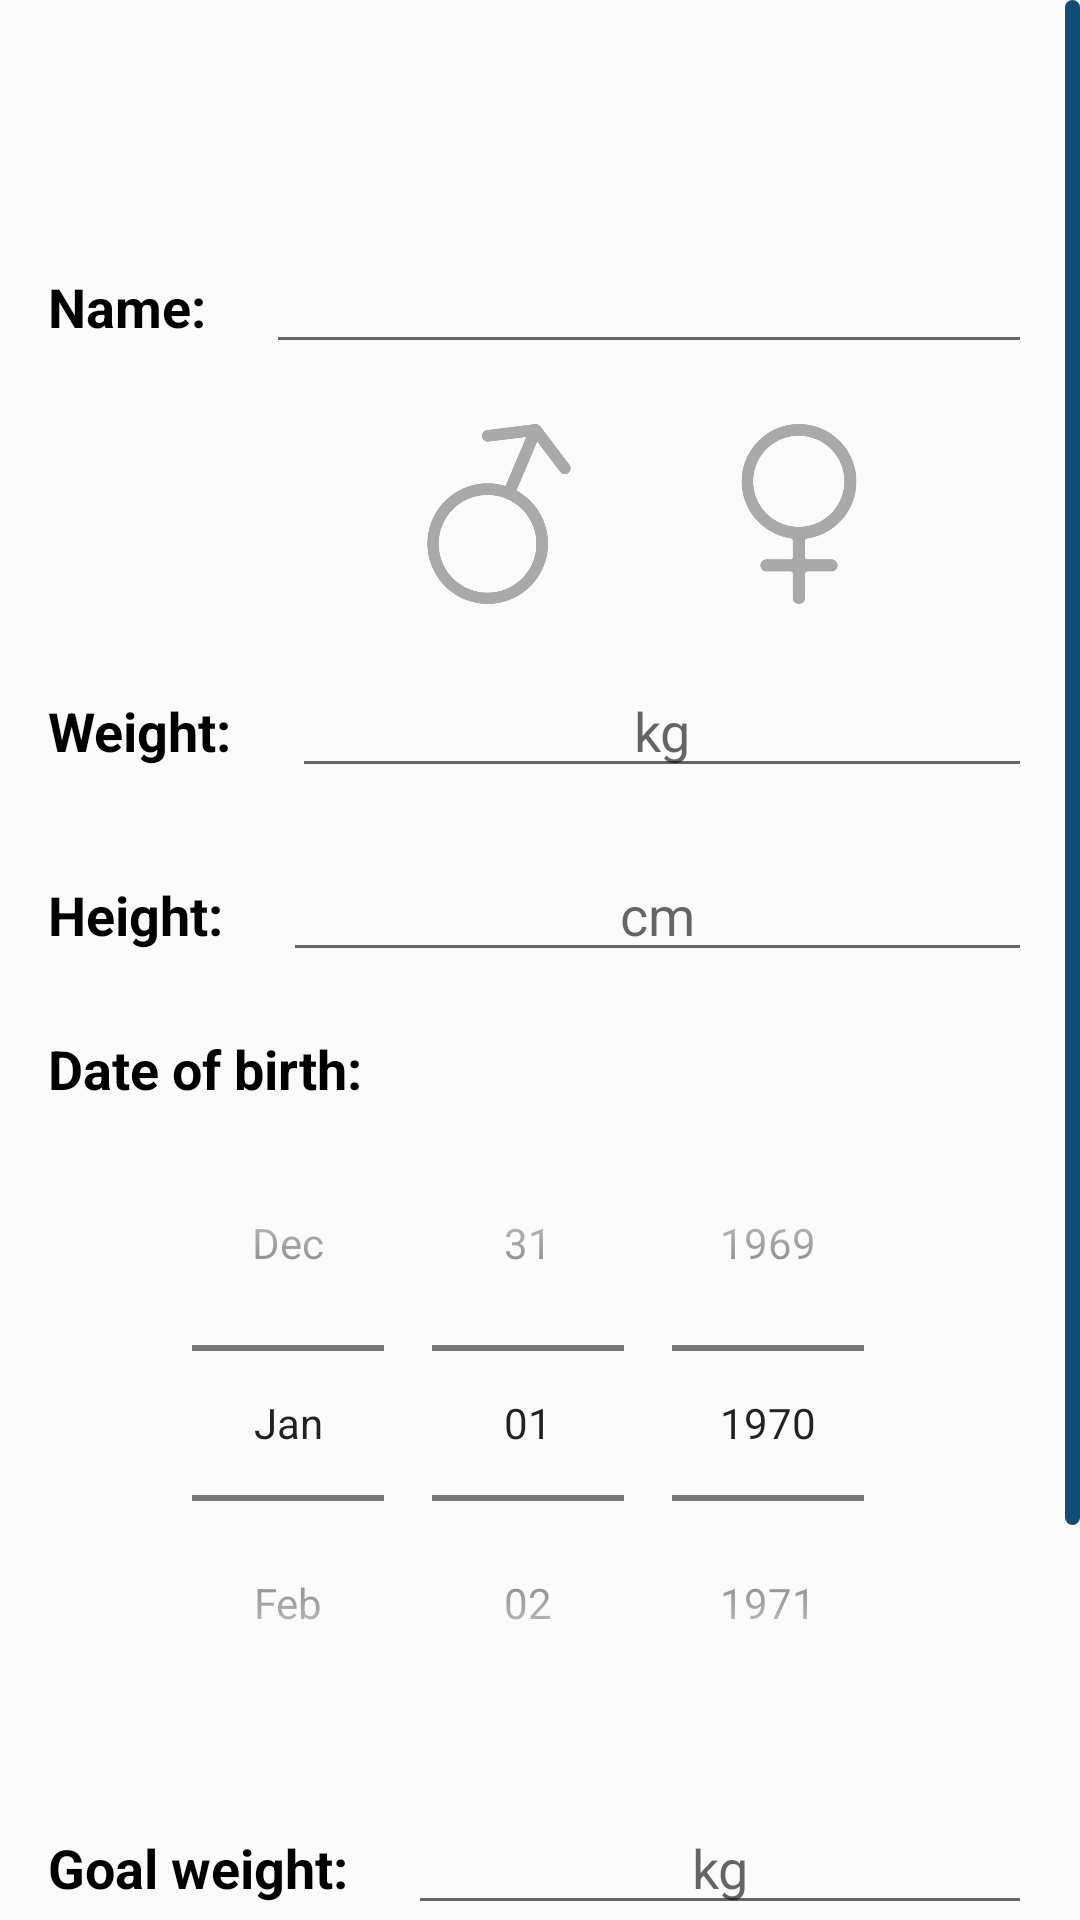

Point at icon controls on the screen. Image size 1080x1920, points as (x=x, y=y).
gender female: (x=799, y=514)
gender male: (x=499, y=514)
